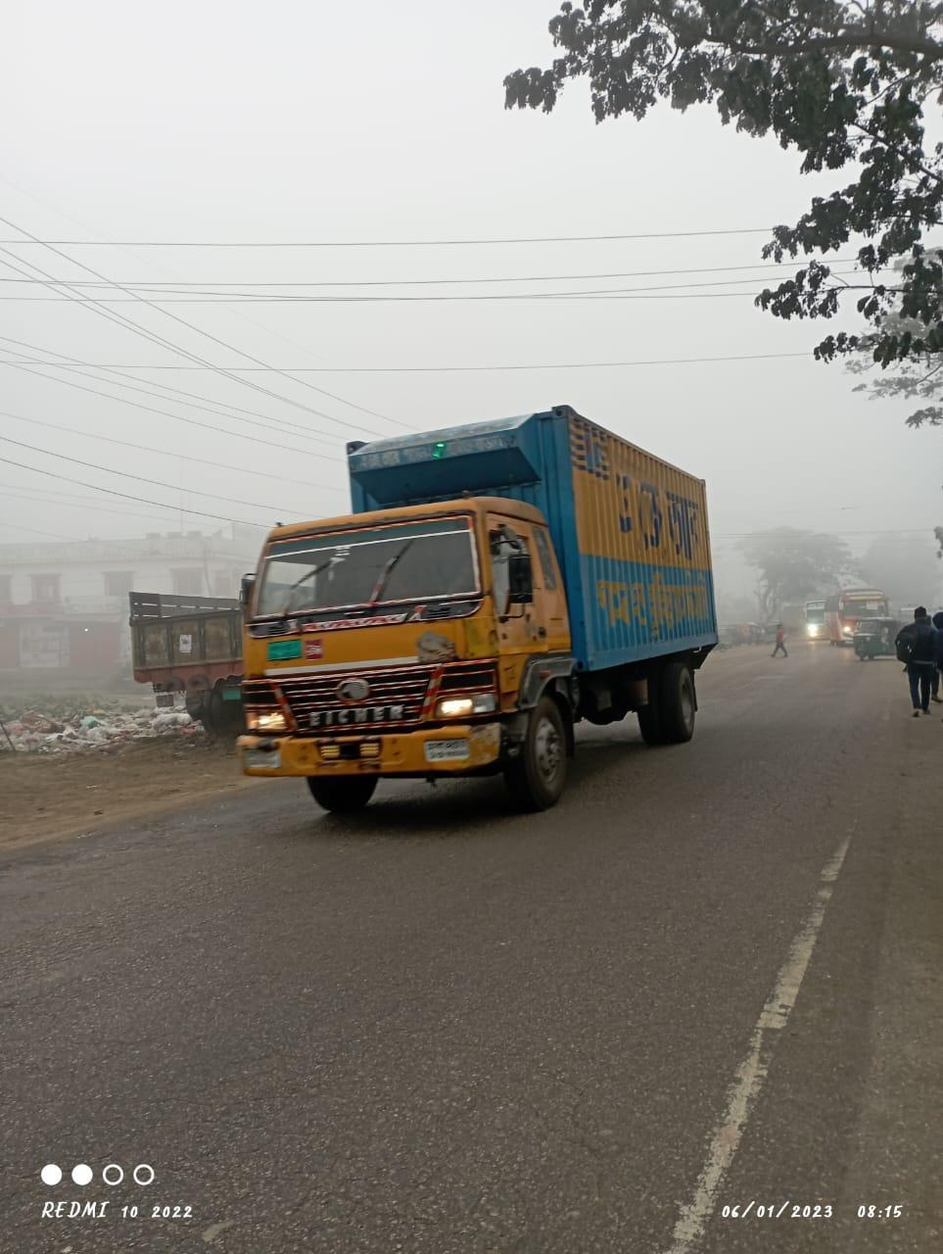Bus: (821, 586, 883, 643)
Truck: (228, 401, 721, 793), (103, 581, 247, 734)
